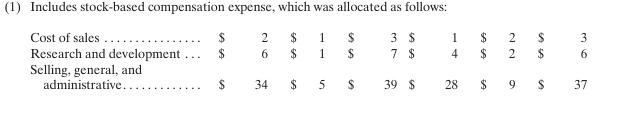table: (29, 28, 586, 91)
table column: (29, 28, 198, 91), (198, 28, 278, 91), (401, 28, 468, 91), (335, 28, 401, 91), (525, 28, 586, 91), (278, 28, 335, 91), (468, 28, 525, 91)
table column header: (29, 28, 586, 44)
table row: (29, 60, 586, 91), (29, 28, 586, 44), (29, 44, 586, 60)
